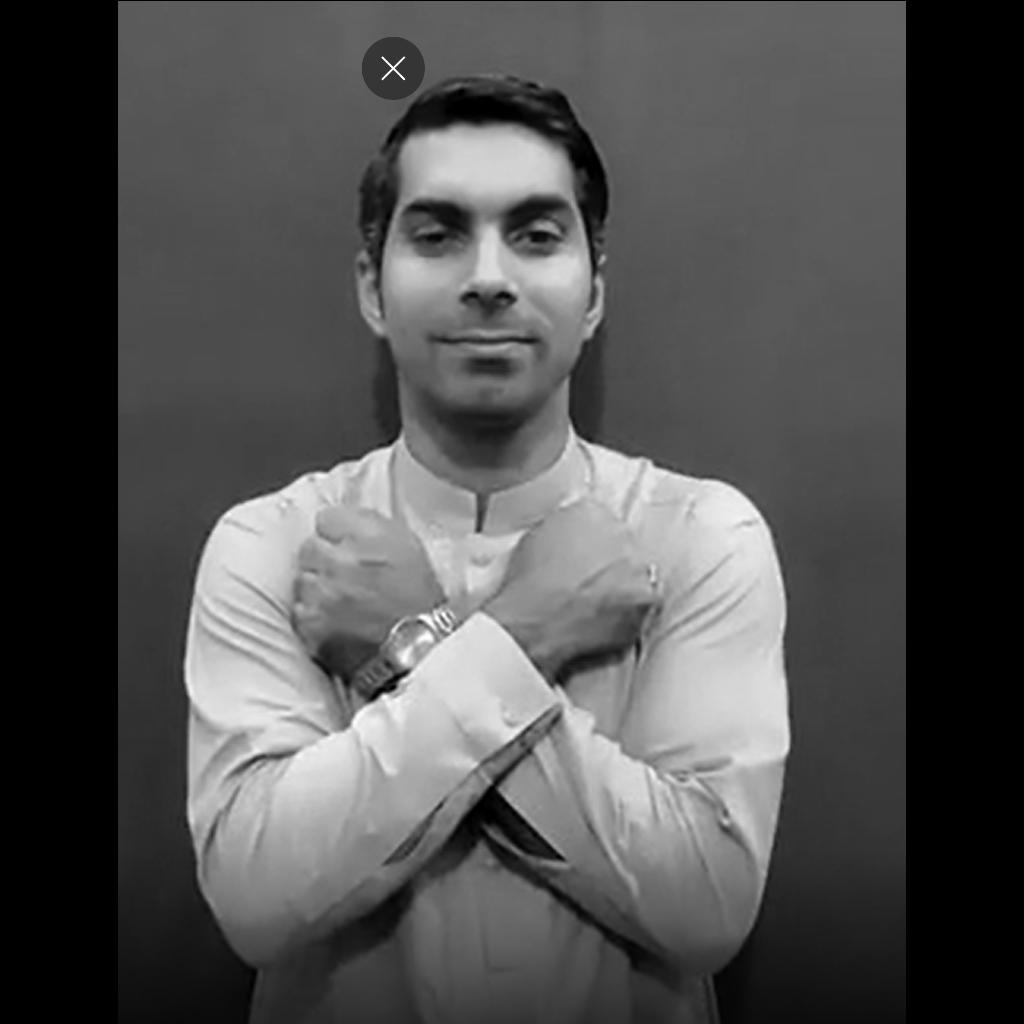love: (292, 494, 664, 664)
